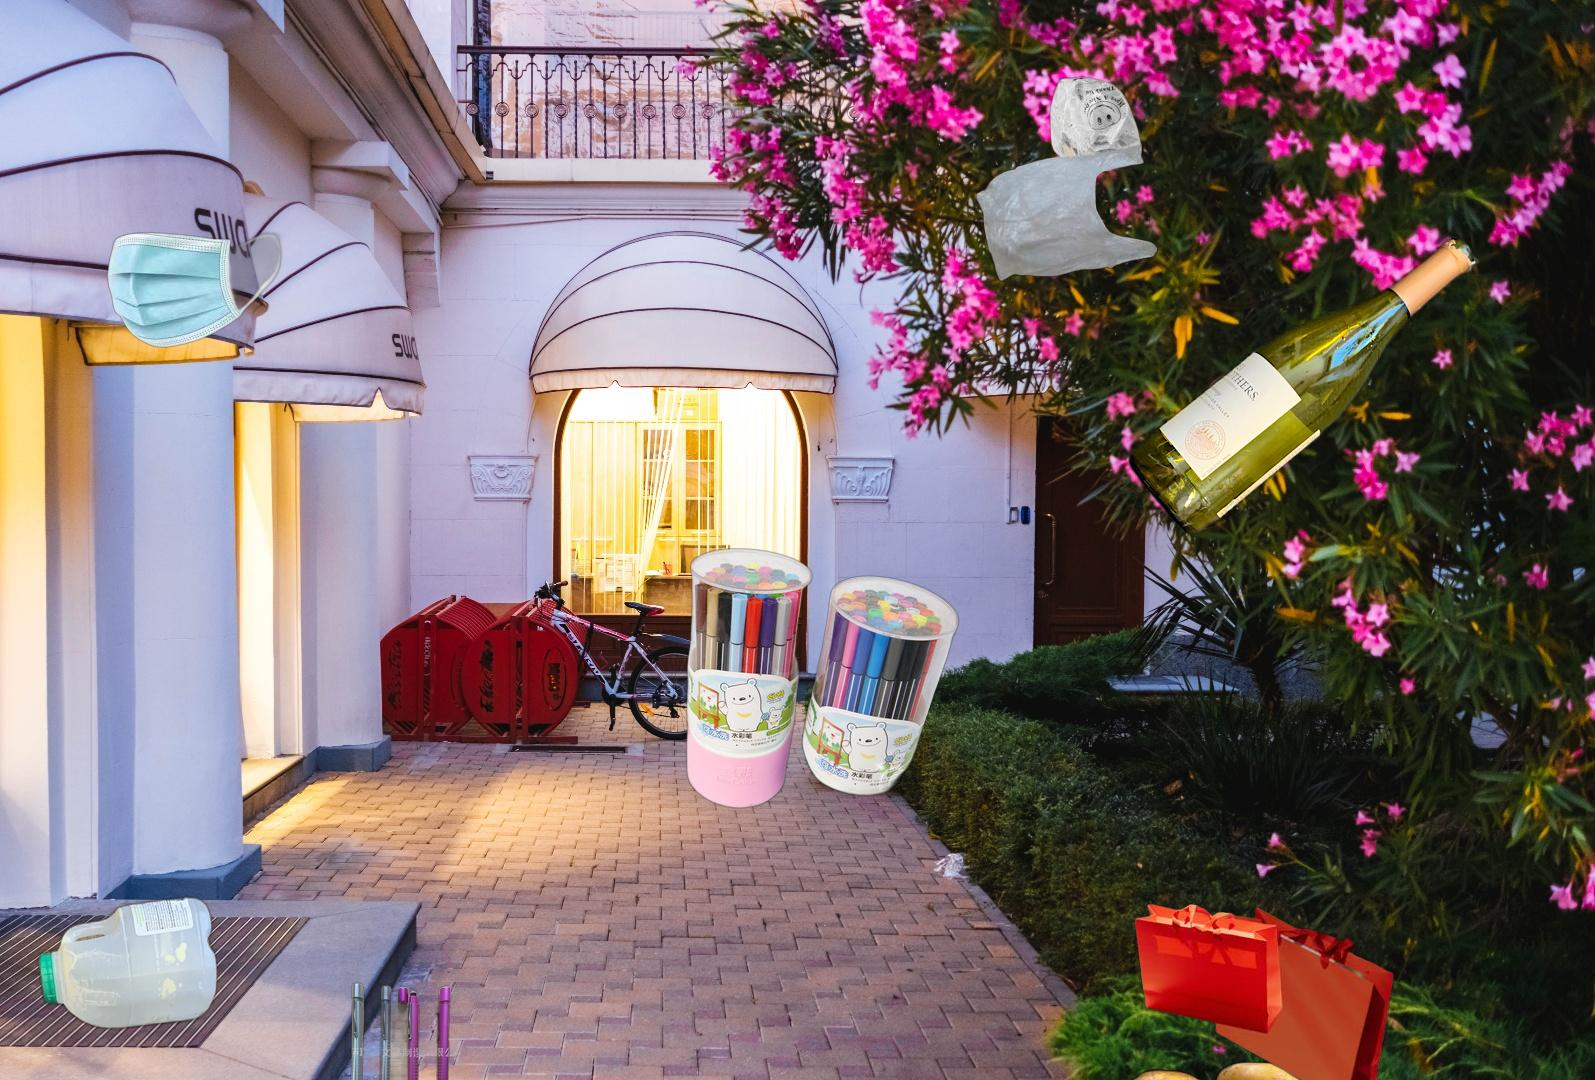biological: (1078, 1060, 1353, 1080)
glass: (1125, 231, 1482, 540)
paper-bag: (1131, 900, 1396, 1080)
penholder: (684, 545, 960, 845), (344, 979, 459, 1080)
plastic-bag: (973, 74, 1159, 284)
plastic-bottles: (33, 891, 221, 1041)
trash: (104, 228, 287, 350)
